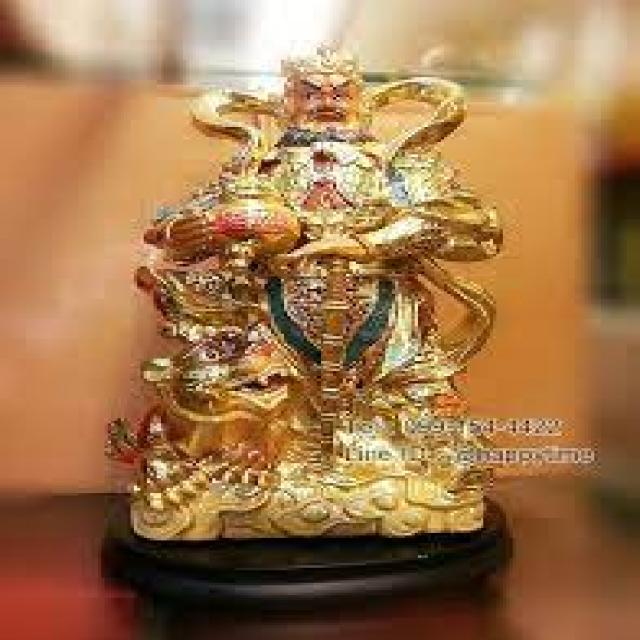Cai shen: (167, 38, 511, 393)
